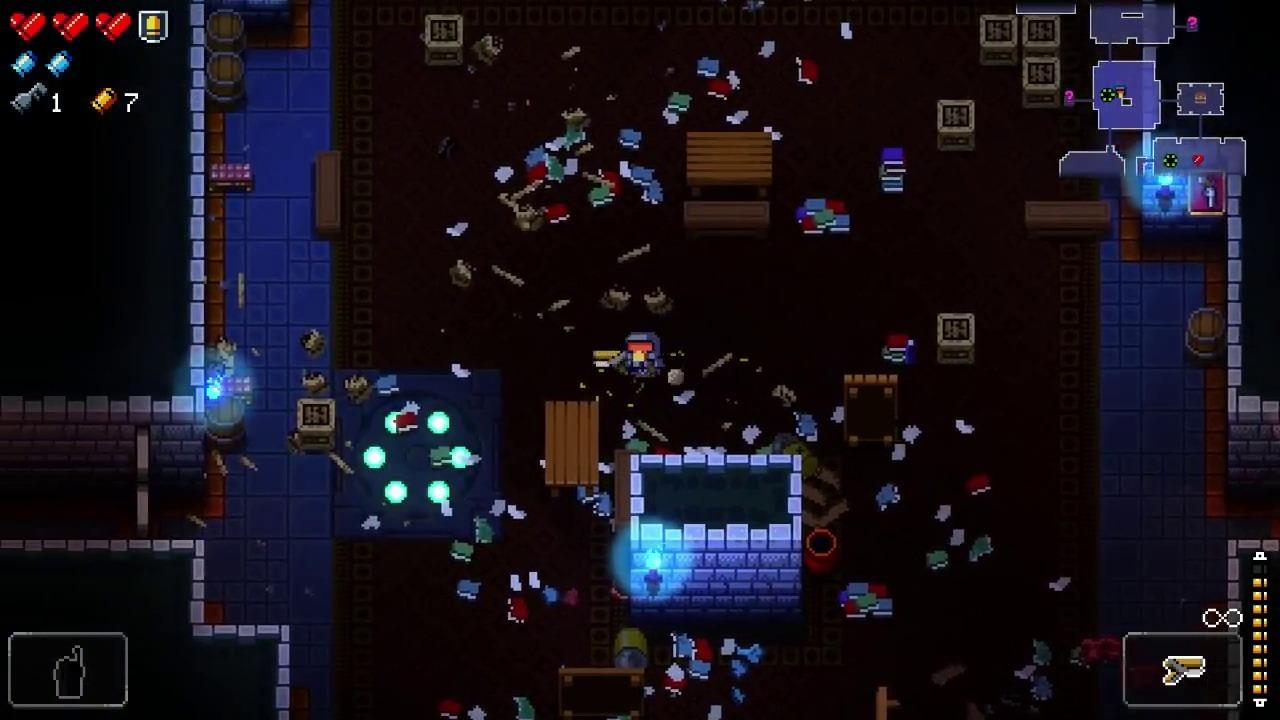dead_bullet_kin: (613, 627, 649, 668)
player: (625, 330, 662, 380)
table: (686, 131, 772, 198), (546, 401, 599, 497), (558, 668, 644, 719), (844, 374, 898, 447)
teleporter: (332, 367, 507, 541)
unlocked_door: (135, 427, 151, 539)
wall: (630, 455, 803, 624)
